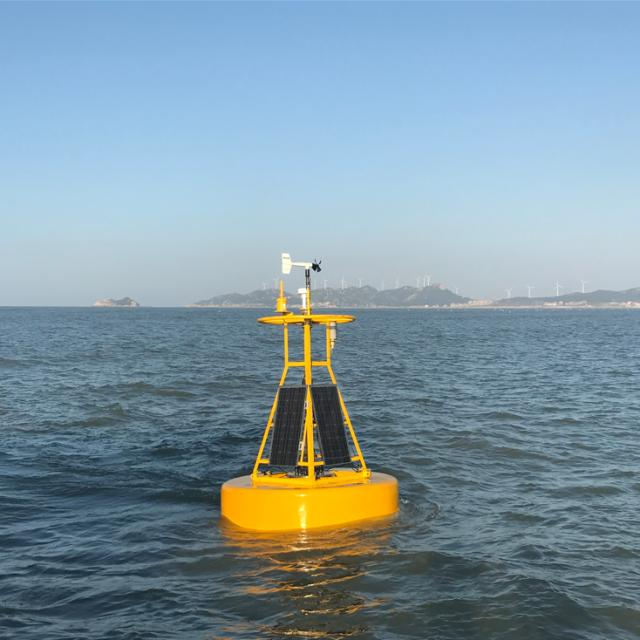buoy: (212, 247, 410, 534)
